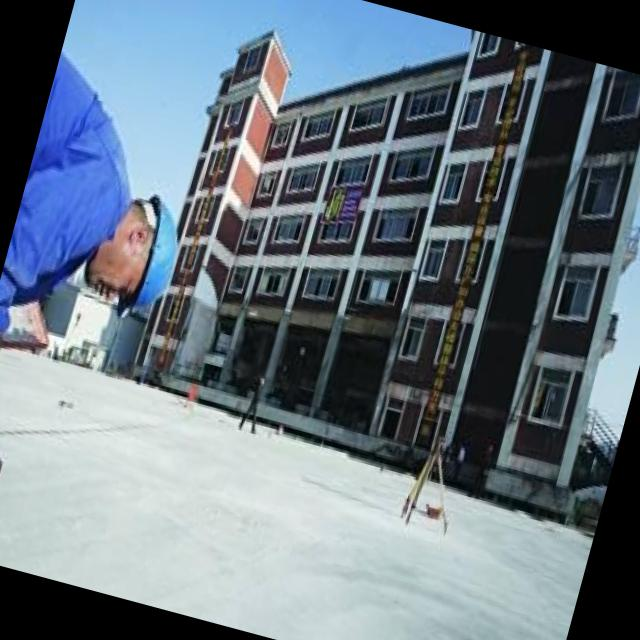helmet: (74, 175, 195, 318)
